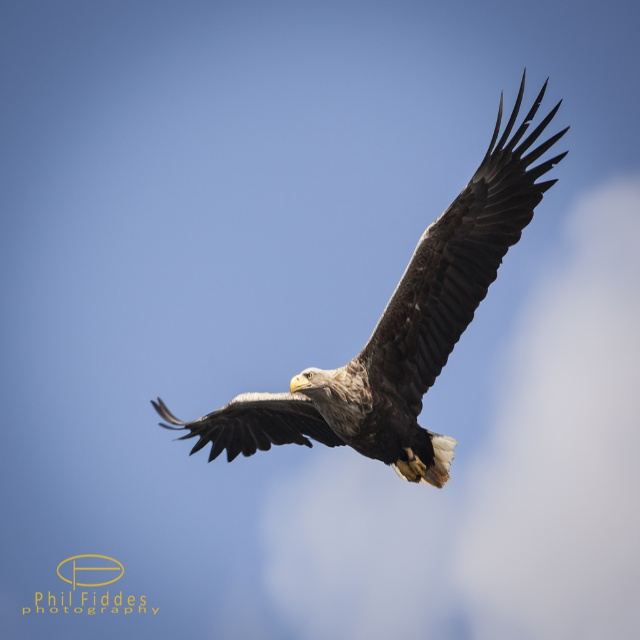Eagle: (150, 68, 571, 488)
